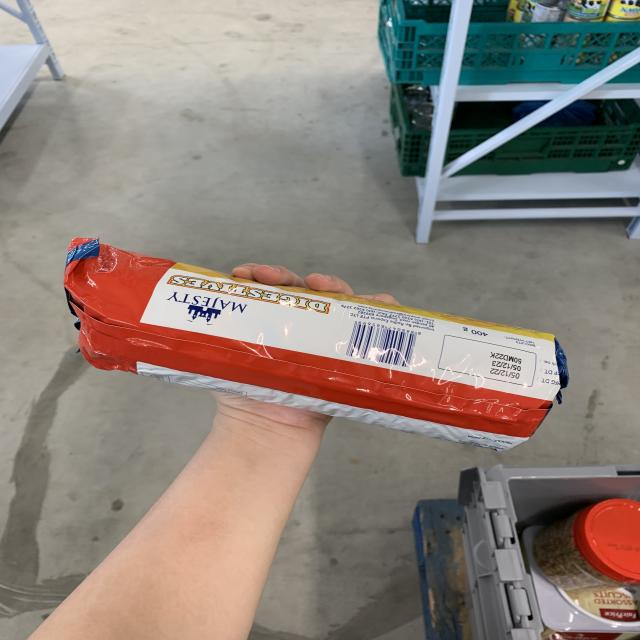object_name: (63, 248, 553, 444)
